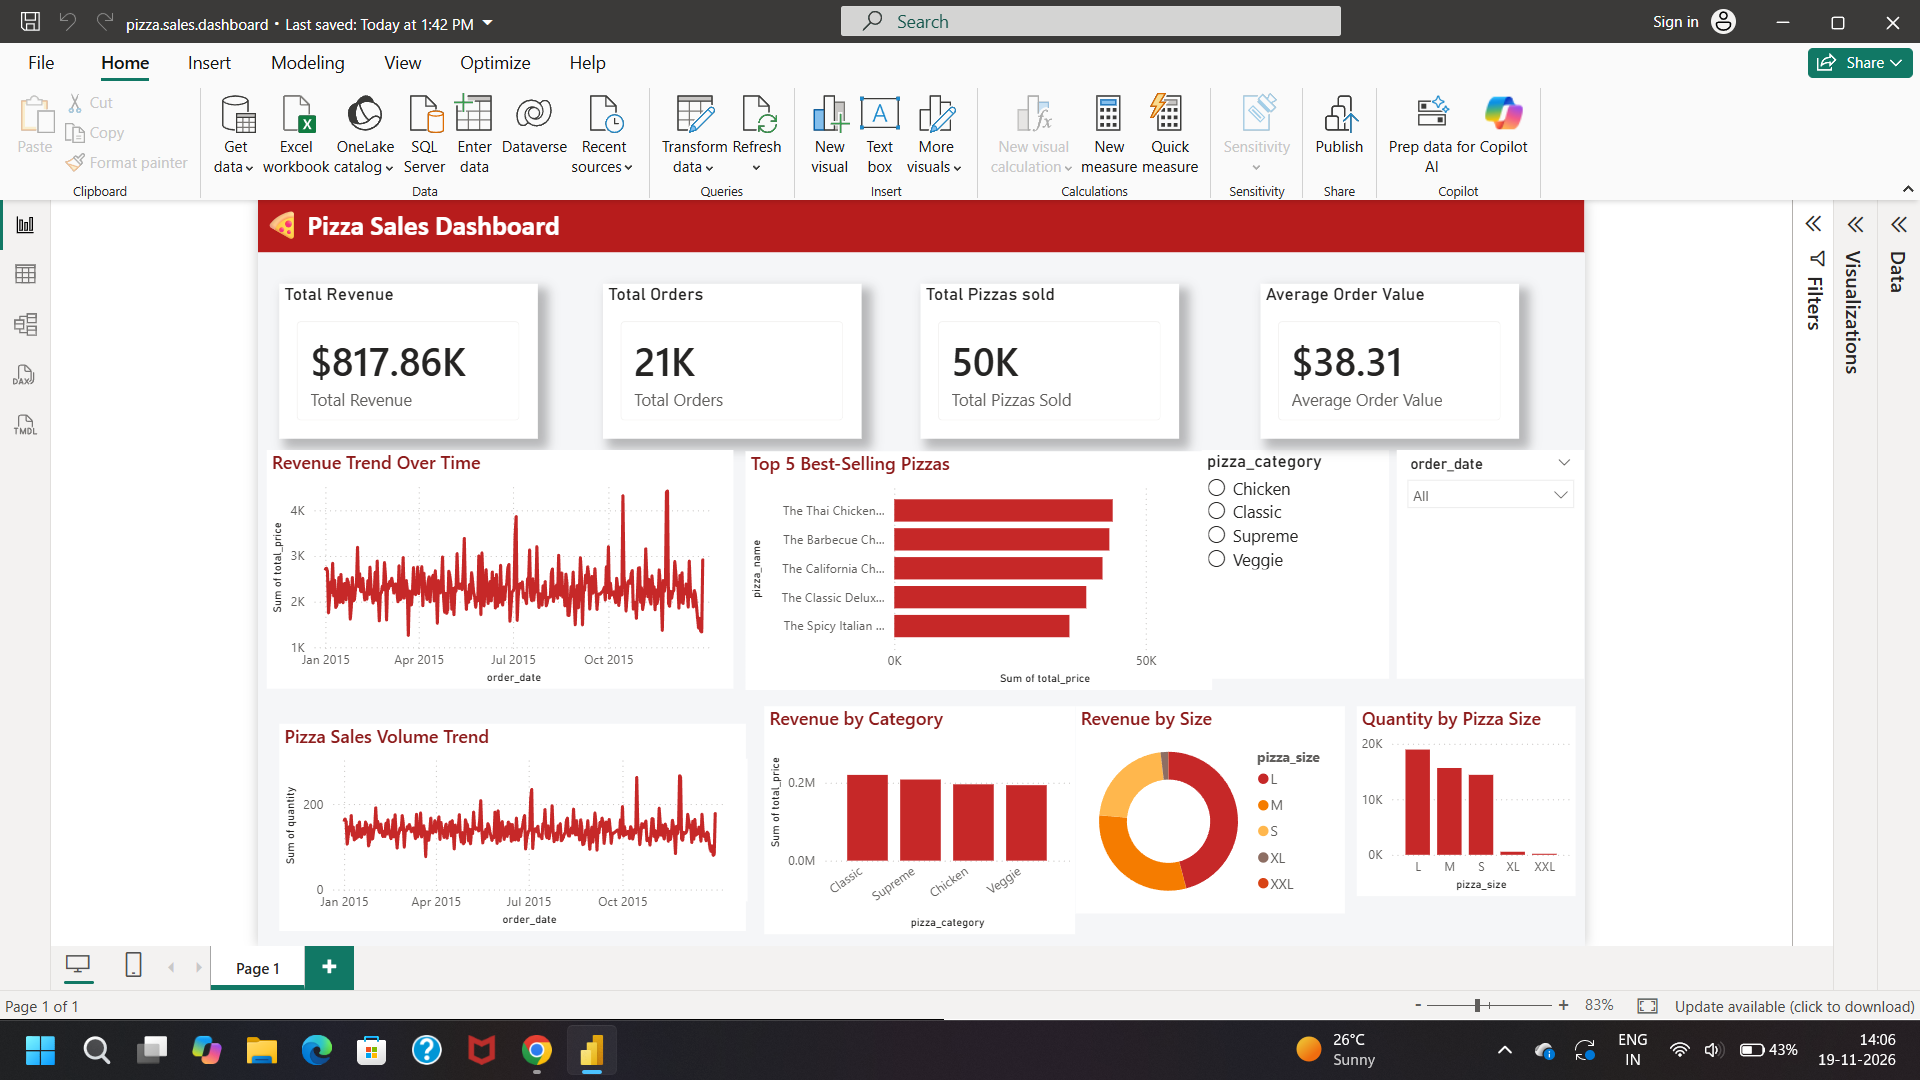

What the dashboard file says about the page in this screenshot:
{"tool":"powerbi","page":{"name":"Page 1","canvas":[1280,720],"ordinal":0},"visuals":[{"type":"cardVisual","title":"Total Revenue","fields":{"Data":["pizza_sales.Total Revenue"]},"box":[20.6,81,249.7,149.6],"z":0},{"type":"cardVisual","title":"Total Orders","fields":{"Data":["pizza_sales.Total Orders"]},"box":[333,80.8,249.7,149.6],"z":1000},{"type":"cardVisual","title":"Total Pizzas sold","fields":{"Data":["pizza_sales.Total Pizzas Sold"]},"box":[639.5,81,249.7,149.6],"z":2000},{"type":"clusteredColumnChart","title":"Revenue by Category","fields":{"Category":["pizza_sales.pizza_category"],"Y":["Sum(pizza_sales.total_price)"]},"box":[488.6,488.6,300,220],"z":3000},{"type":"lineChart","title":"Revenue Trend Over Time","fields":{"Y":["Sum(pizza_sales.total_price)"],"Category":["pizza_sales.order_date"]},"box":[8.4,241.3,450,230.4],"z":4000},{"type":"donutChart","title":"Revenue by Pizza Size","fields":{"Category":["pizza_sales.pizza_size"],"Y":["Sum(pizza_sales.total_price)"]},"box":[244.3,539.3,229.2,137.2],"z":5000},{"type":"clusteredBarChart","title":"Top 5 Best-Selling Pizzas","fields":{"Category":["pizza_sales.pizza_name"],"Y":["Sum(pizza_sales.total_price)"]},"box":[470.5,242.5,450,230.4],"z":6000},{"type":"listSlicer","fields":{"Values":["pizza_sales.pizza_category"]},"box":[910.9,241.3,181,220.8],"z":7000},{"type":"cardVisual","title":"Average Order Value","fields":{"Data":["pizza_sales.Average Order Value"]},"box":[967.4,81,249.7,149.6],"z":8000},{"type":"lineChart","title":"Pizza Sales Volume Trend","fields":{"Y":["Sum(pizza_sales.quantity)"],"Category":["pizza_sales.order_date"]},"box":[20.5,505.5,450,200],"z":9000},{"type":"clusteredColumnChart","title":"Quantity by Pizza Size","fields":{"Category":["pizza_sales.pizza_size"],"Y":["Sum(pizza_sales.quantity)"]},"box":[1060.5,488.6,211.1,183.4],"z":10000},{"type":"slicer","fields":{"Values":["pizza_sales.order_date"]},"box":[1099.1,241.3,181,220.8],"z":11000},{"type":"textbox","box":[0,0,1280.3,50],"z":12000},{"type":"donutChart","title":"Revenue by Size","fields":{"Category":["pizza_sales.pizza_size"],"Y":["Sum(pizza_sales.total_price)"]},"box":[789,489,260,200],"z":13000}]}

Visuals, with their boxes on the page's 1280x720 design canvas (x1, y1, x2, y2). These are canvas units, not pixel positions in the 1920x1080 screenshot, which may show the page scaled, cropped or inside an application window:
"Total Revenue" cardVisual: bbox=[21, 81, 270, 231]
"Total Orders" cardVisual: bbox=[333, 81, 583, 230]
"Total Pizzas sold" cardVisual: bbox=[640, 81, 889, 231]
"Revenue by Category" clusteredColumnChart: bbox=[489, 489, 789, 709]
"Revenue Trend Over Time" lineChart: bbox=[8, 241, 458, 472]
"Revenue by Pizza Size" donutChart: bbox=[244, 539, 474, 676]
"Top 5 Best-Selling Pizzas" clusteredBarChart: bbox=[470, 242, 920, 473]
listSlicer - pizza_sales.pizza_category: bbox=[911, 241, 1092, 462]
"Average Order Value" cardVisual: bbox=[967, 81, 1217, 231]
"Pizza Sales Volume Trend" lineChart: bbox=[20, 506, 470, 706]
"Quantity by Pizza Size" clusteredColumnChart: bbox=[1060, 489, 1272, 672]
slicer - pizza_sales.order_date: bbox=[1099, 241, 1280, 462]
textbox: bbox=[0, 0, 1280, 50]
"Revenue by Size" donutChart: bbox=[789, 489, 1049, 689]
